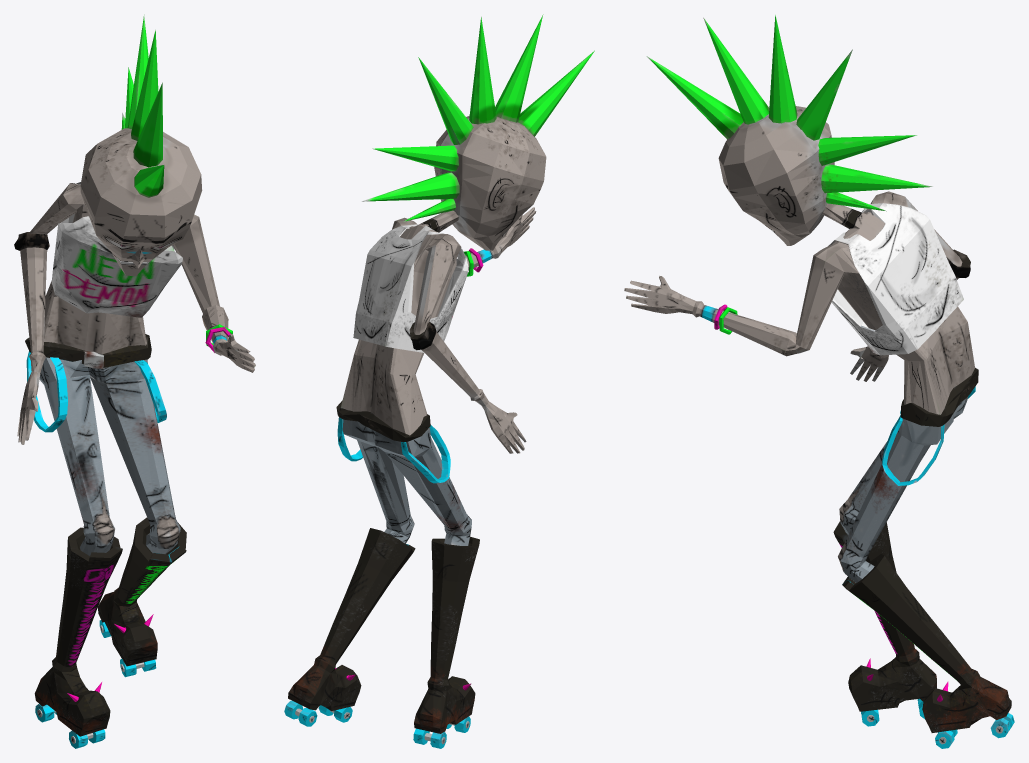
Rendered from punkAnimation_000008.obj.
3 renders of one model, left to right at view 1: azimuth 30°, elevation 25°; view 2: azimuth 150°, elevation 25°; view 3: azimuth 270°, elevation 25°, orthographic. The views are drawn at different scales.
Visible parts, largest first — view 1: Cube.004_Cube.003; view 2: Cube.004_Cube.003; view 3: Cube.004_Cube.003.
Boxes of the visible parts, x1,y1,x2,y2 form: Cube.004_Cube.003: [14, 14, 255, 748]; Cube.004_Cube.003: [284, 14, 594, 748]; Cube.004_Cube.003: [624, 15, 1014, 748].
Bounding box in the file's own units: 1.79 × 6.85 × 3.39.
